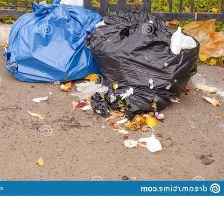plastic_bag: (82, 4, 205, 125), (1, 0, 105, 85), (178, 14, 224, 62)
